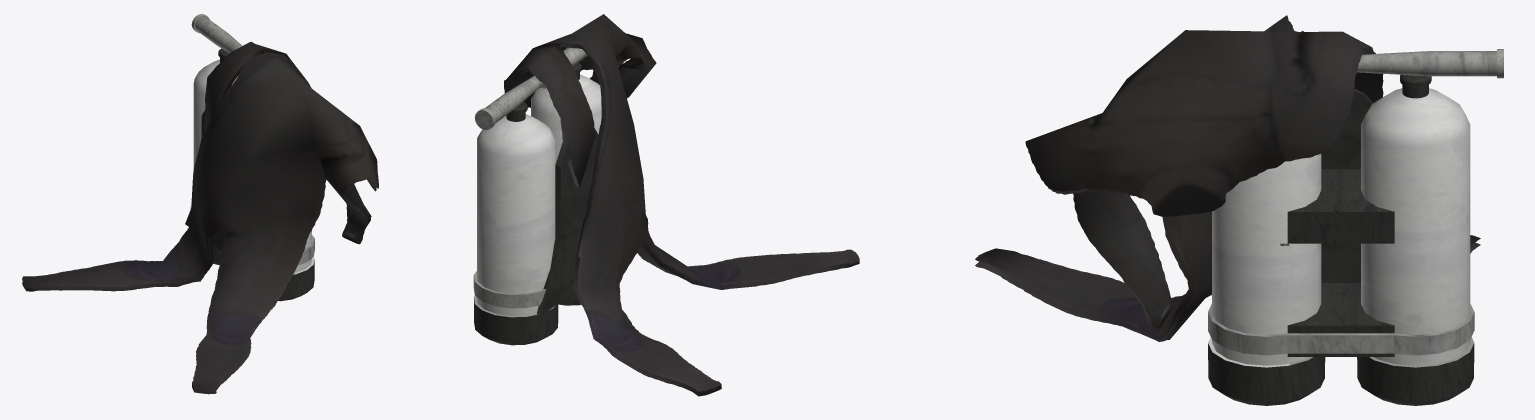
The model's file is ScubaGear.fbx.
3 renders of one model, left to right at view 1: azimuth 30°, elevation 25°; view 2: azimuth 150°, elevation 25°; view 3: azimuth 270°, elevation 25°, orthographic. The views are drawn at different scales.
Visible parts, largest first — view 1: Wetsuit, Tank; view 2: Wetsuit, Tank; view 3: Tank, Wetsuit.
Boxes of the visible parts, x1,y1,x2,y2 form: Wetsuit: (22,41,378,394); Tank: (185,14,314,301); Wetsuit: (504,14,859,396); Tank: (473,47,601,345); Tank: (1208,49,1503,405); Wetsuit: (975,15,1480,341).
Size of the model in its own units: 859 by 721 by 1147.
